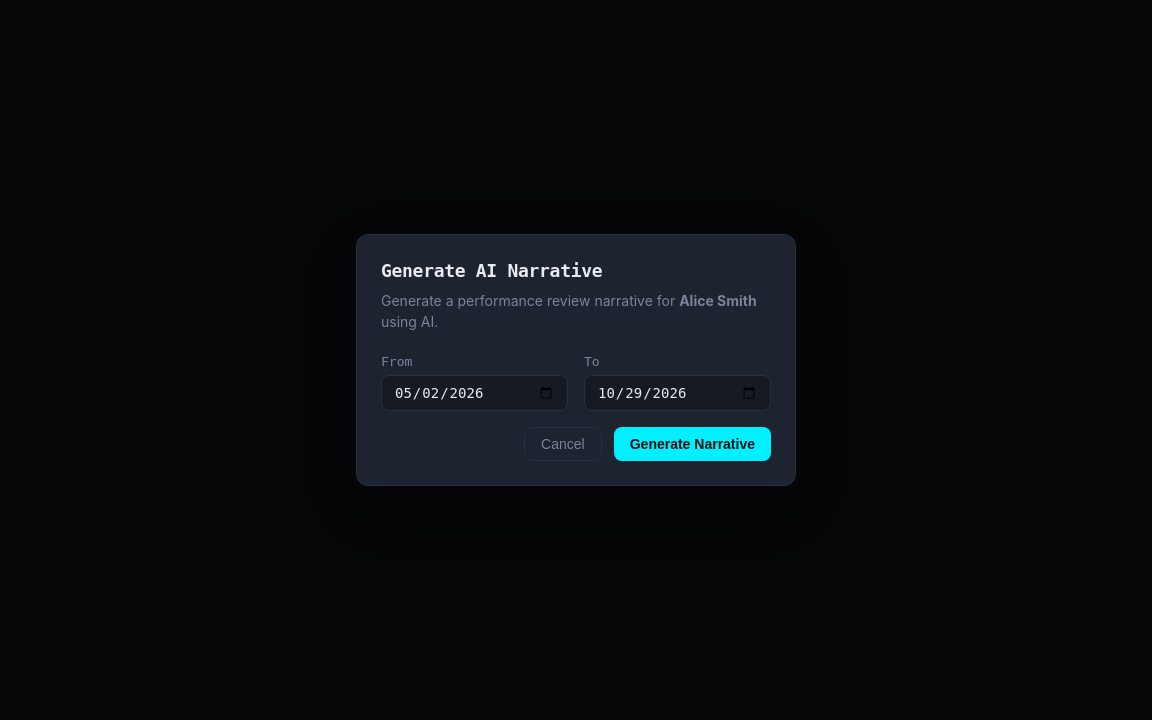
AiNarrativeModal › should show validation error when dates are empty
Clear the date field with test id "narrative-date-from": [474, 393] box [381,375,568,411]
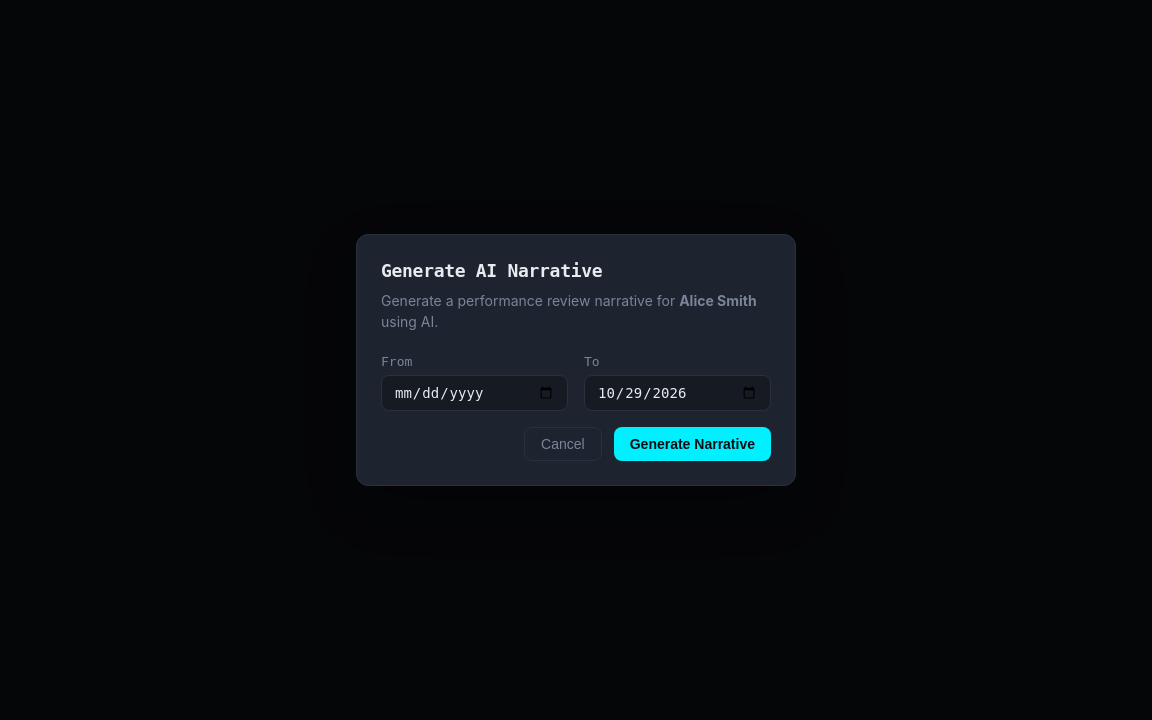
Click the button with test id "ai-narrative-generate": [692, 444] box [614,427,771,461]
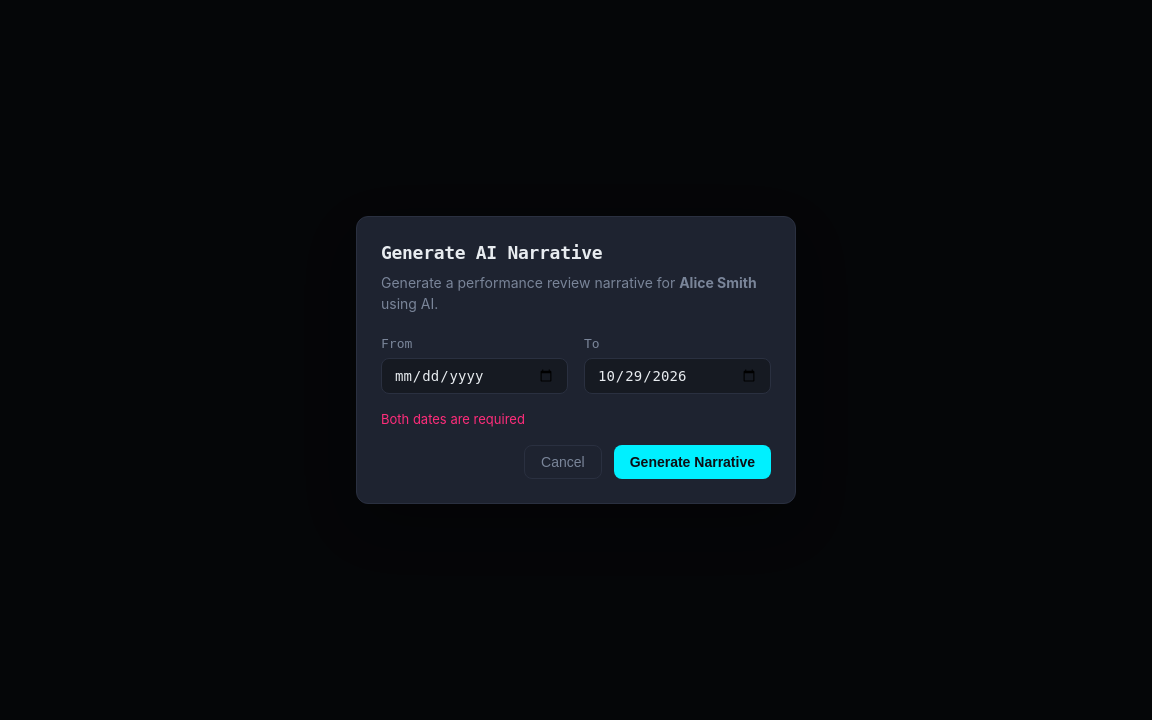
Check: the text with test id "ai-narrative-validation-error" reads "Both dates are required", box [381,411,525,427]
